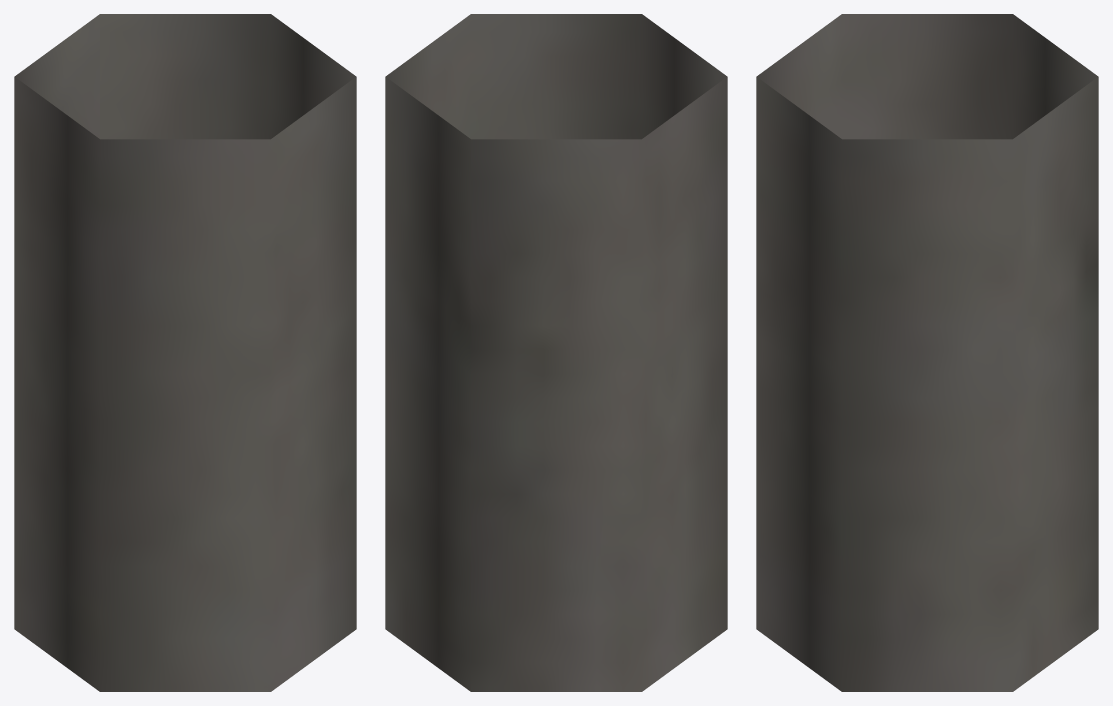
File: cable_2cm.gltf
3 views of the same model, side by side, from view 1: azimuth 30°, elevation 25°; view 2: azimuth 150°, elevation 25°; view 3: azimuth 270°, elevation 25° (orthographic).
Visible parts, largest first — view 1: cable_2cm; view 2: cable_2cm; view 3: cable_2cm.
Part boxes in pixels (x1,y1,x2,y2): cable_2cm: (14, 14, 356, 691); cable_2cm: (385, 14, 727, 691); cable_2cm: (756, 14, 1098, 691).
Size of the model in its own units: 0.00971 by 0.02 by 0.0112.
Materials: 1 (1 with a texture image).
